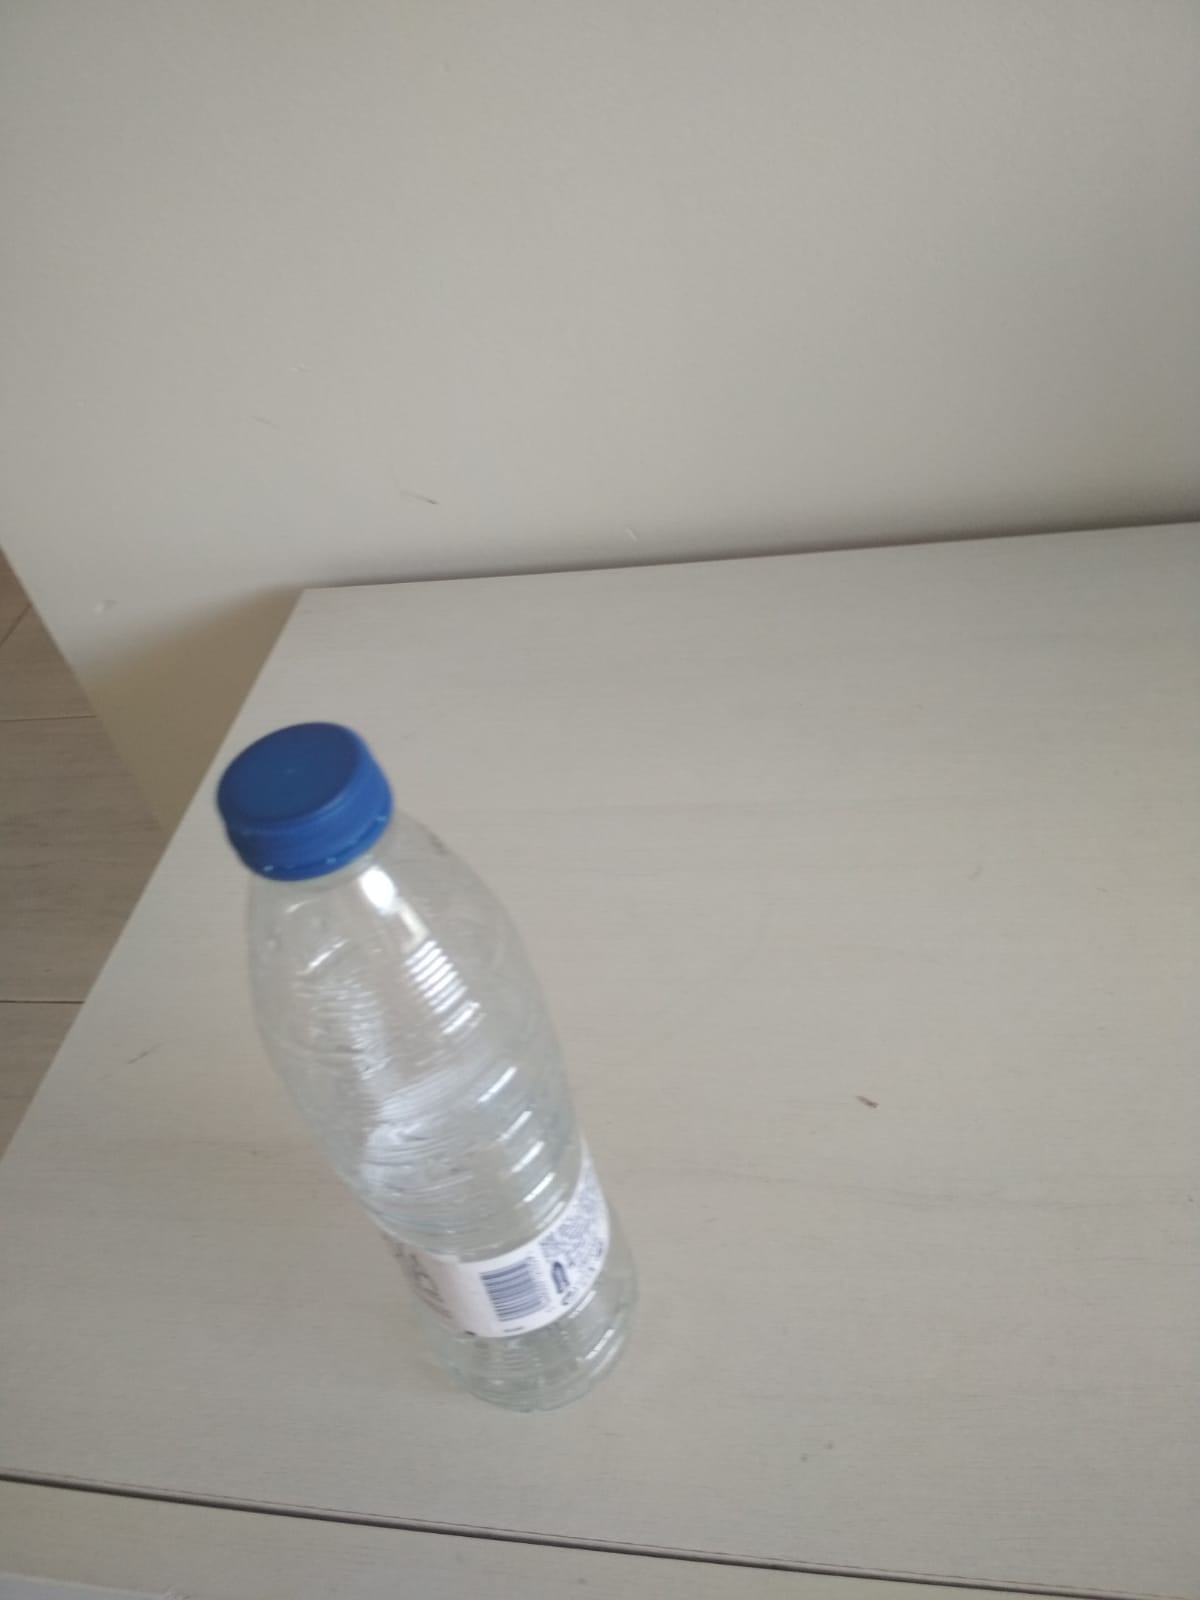botella plastico: (208, 721, 642, 1414)
